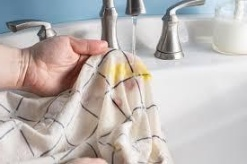mustard: (108, 62, 123, 82), (129, 63, 145, 78)
